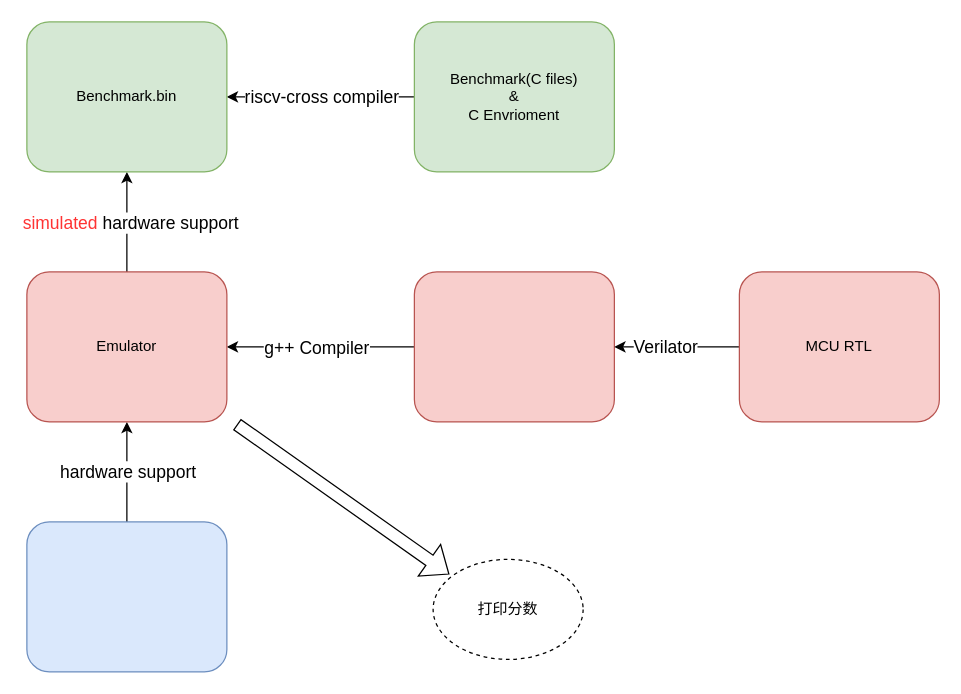
The diagram is 961 pixels wide and 694 high, and some of its shapes have lost their labels. Each missing label, with the centre of its shape:
C++ files: point 513,346
X86 PC: point 126,596
